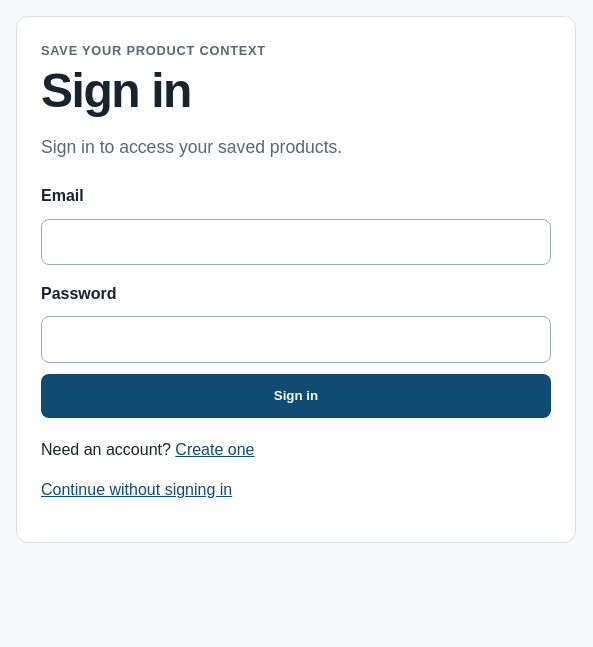
Test: AccountForm › announces a generic sign-in error without losing entered fields
The width and height of the screenshot is (593, 647).
In the field labelled "Email": (296, 242) [41,218,551,265], type "shopper@example.test"
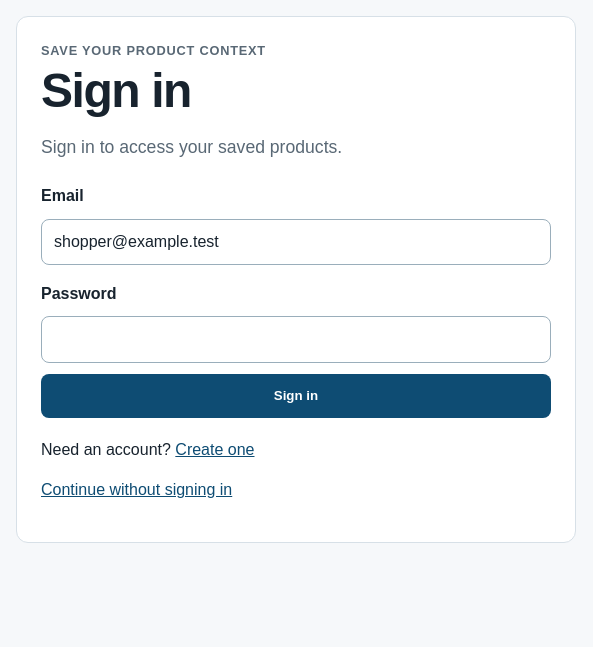
In the password field labelled "Password": (296, 340) [41,316,551,363], type "IncorrectPass42"
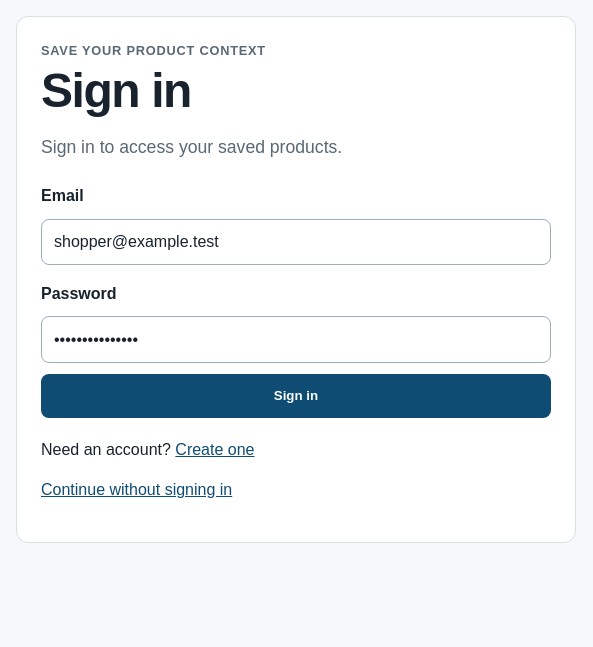
Click the button "Sign in": (296, 396) [41,374,551,418]
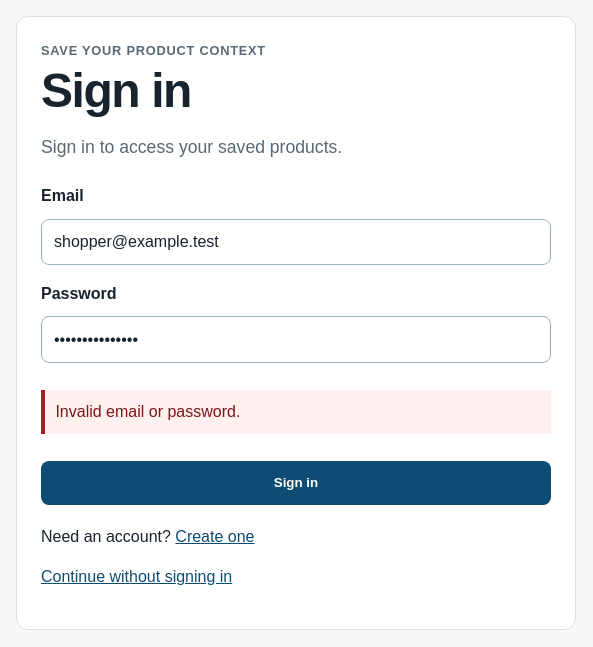
Result: the message shows "Invalid email or password" at [55,403,240,420]
